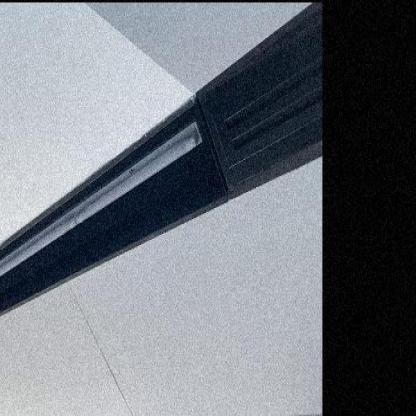light_off: (0, 112, 211, 314)
